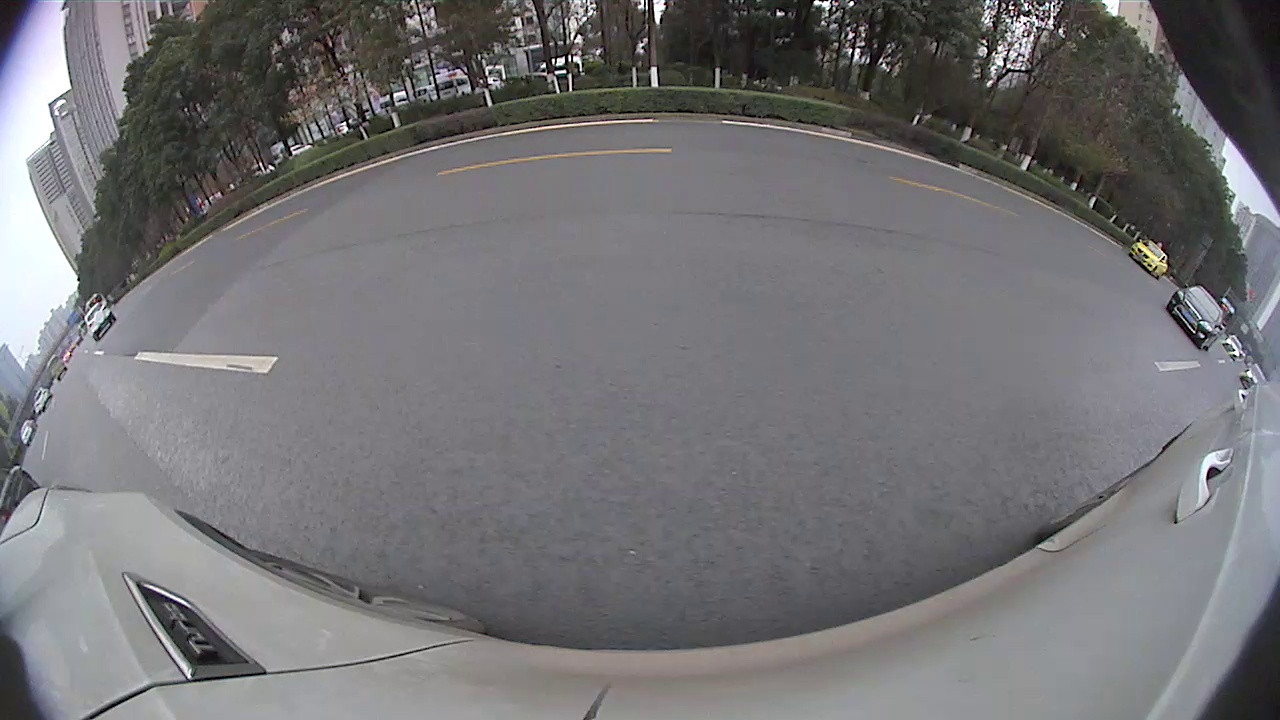car: (1166, 283, 1226, 354), (1129, 237, 1170, 279), (83, 298, 117, 341)
